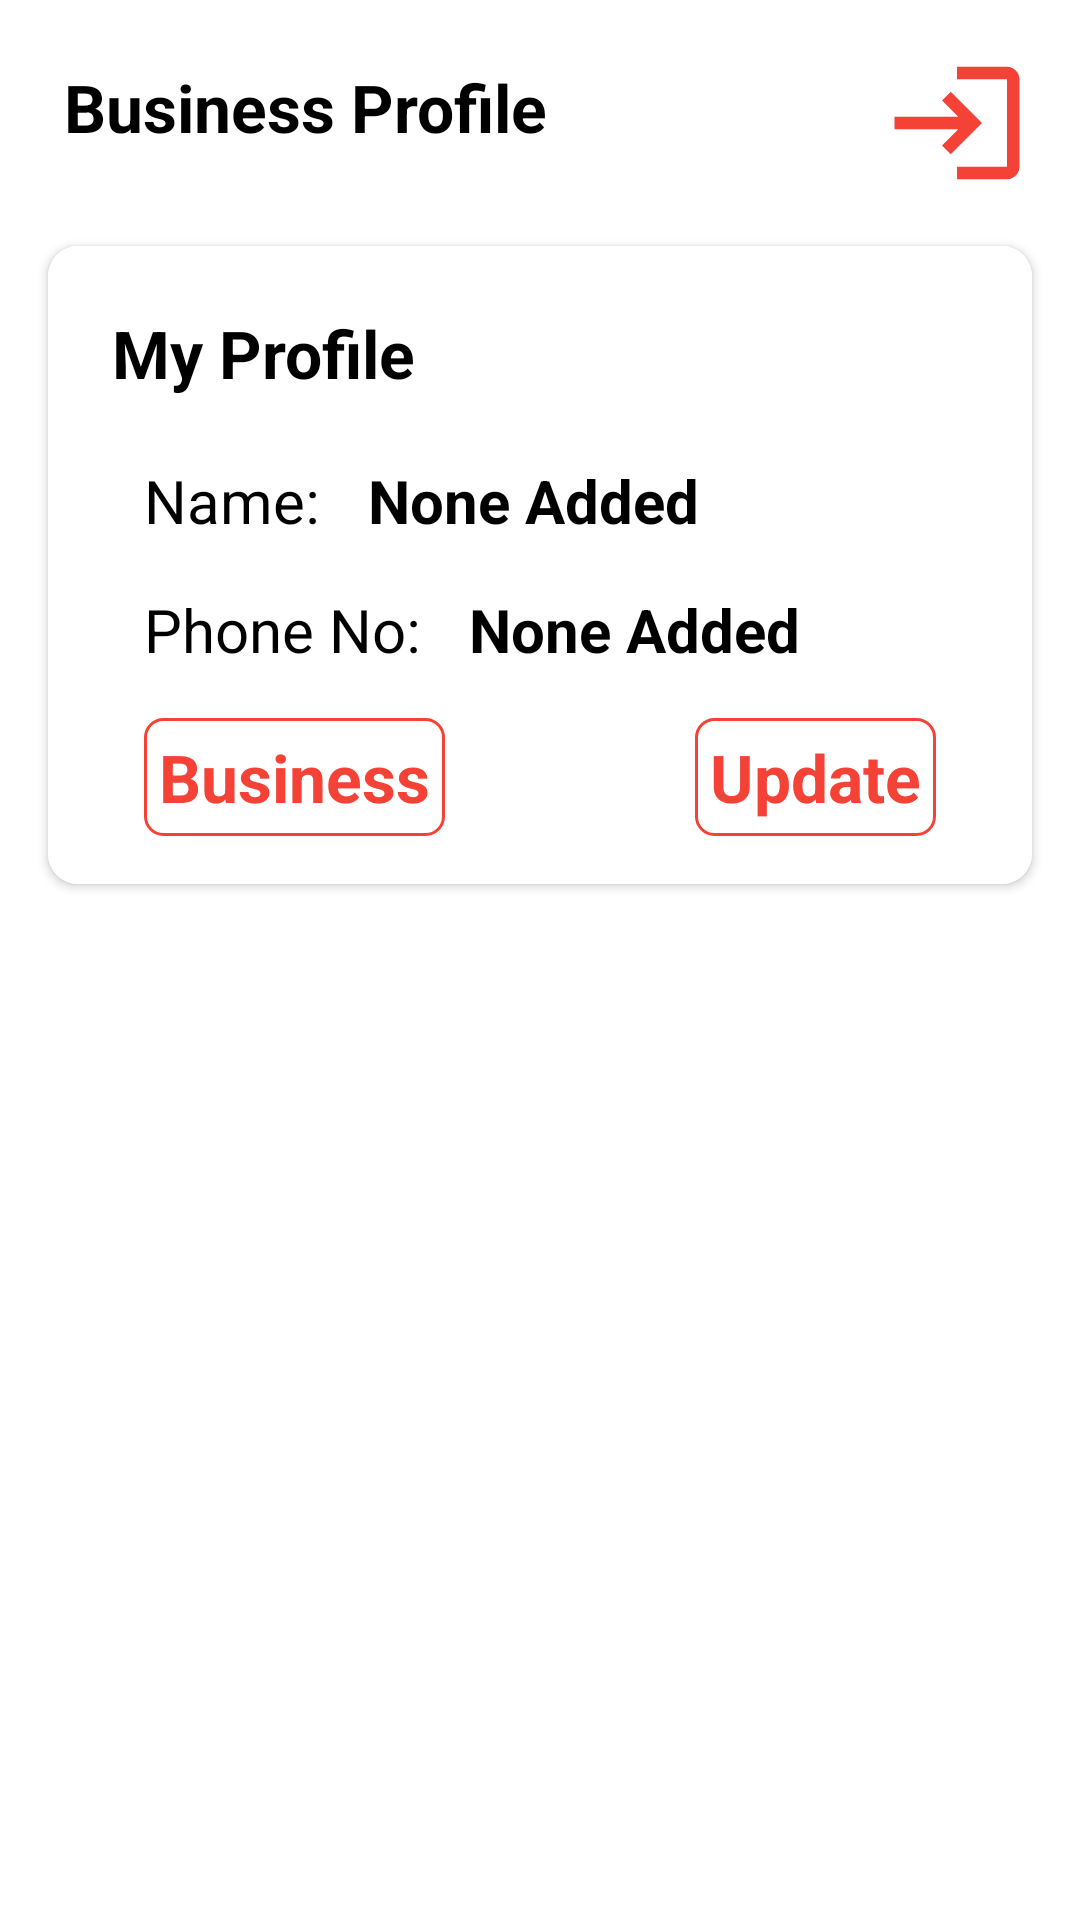

Locate icon controls on the screen. Image size 1080 × 1920, boxes as (x1, y1, x2, y2).
login: (894, 66, 1020, 180)
